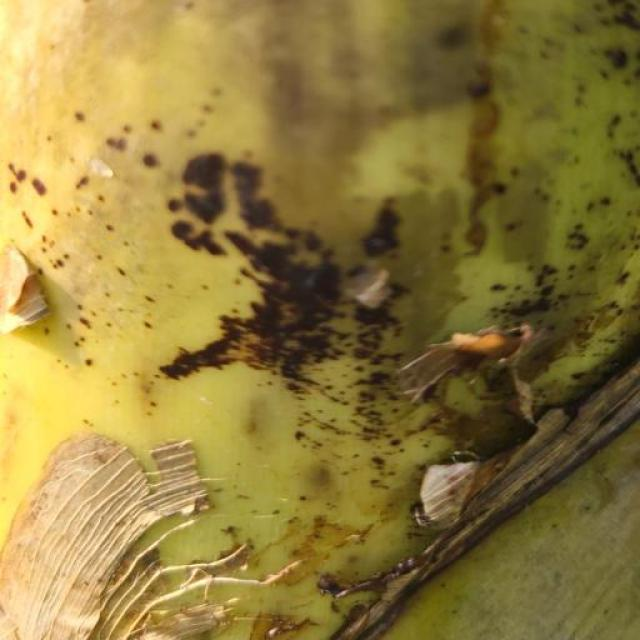Anthracnose: (9, 10, 640, 607)
